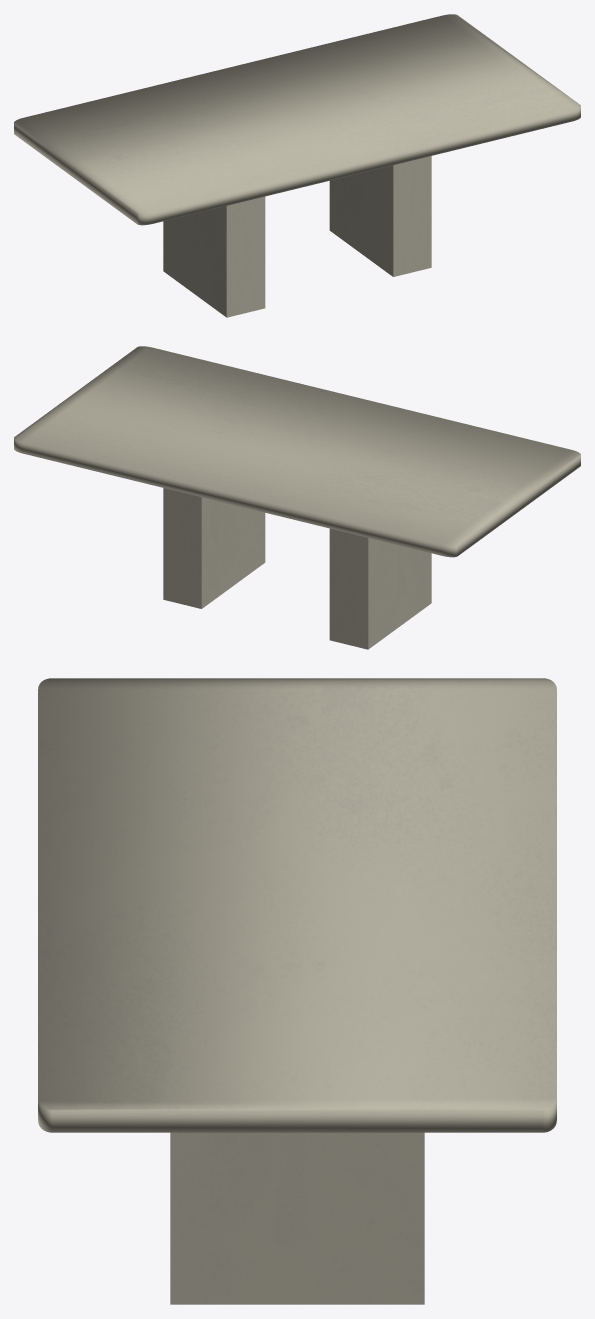
The model's file is silk_softrecta_standard_ridge.glb.
3 views of the same model, one above another, from view 1: azimuth 30°, elevation 25°; view 2: azimuth 150°, elevation 25°; view 3: azimuth 270°, elevation 25° (orthographic). The views are drawn at different scales.
Parts seen in each view (by area): view 1: silk_softrectastandard_ridge; view 2: silk_softrectastandard_ridge; view 3: silk_softrectastandard_ridge.
Boxes of the visible parts, x1,y1,x2,y2 form: silk_softrectastandard_ridge: (14, 14, 580, 317); silk_softrectastandard_ridge: (14, 346, 580, 649); silk_softrectastandard_ridge: (38, 678, 556, 1304).
Size of the model in its own units: 7.5 by 2.51 by 3.8.
Materials: 1 (1 with a texture image).
